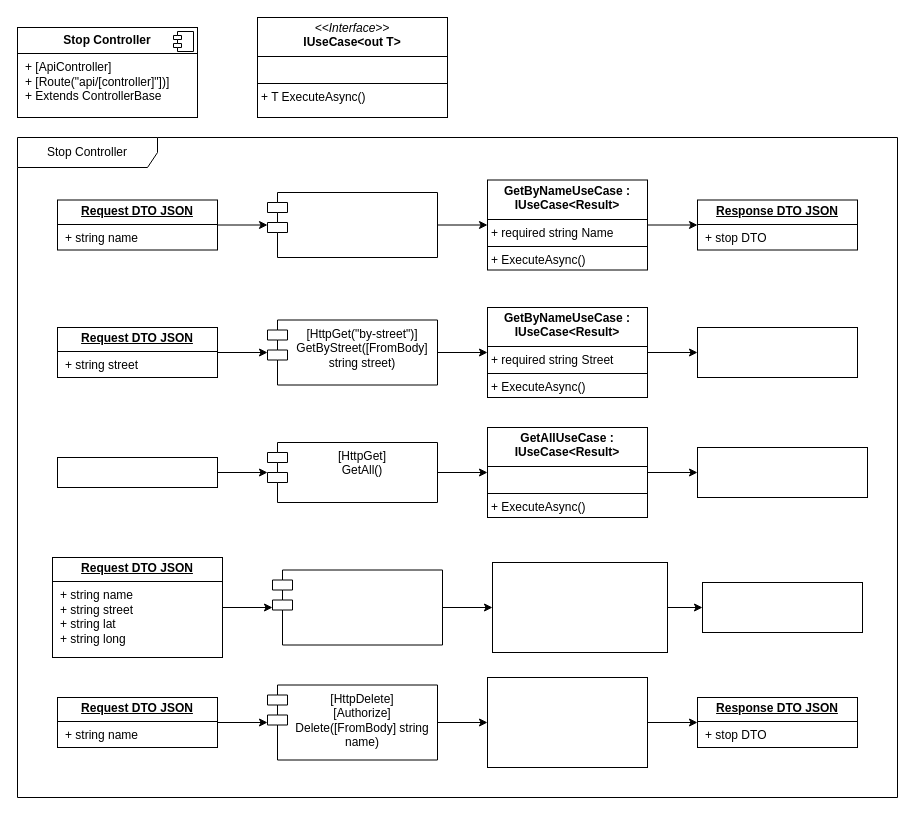
Some shapes in this 915 by 815 pixel diagram are drawn without their labels. The shapes that lost their labels are listed below. From the top down, each one's centre as x and y in pixels, then its label:
(352,225): [HttpGet("by-name")] GetByName([FromBody] string name)
(777,352): Response DTO JSON + Collection of stop DTO
(137,472): Request
(782,472): Response DTO JSON + Collection of stop DTOs
(357,607): [HttpPost] [Authorize] Create([FromBody] CreateStopRequest)
(580,607): CreateUseCase : IUseCase<Result> + required CreateStopRequest + ExecuteAsync()
(782,607): Response DTO JSON + create DTO
(567,722): DeleteUseCase : IUseCase<Result> + required string Name + ExecuteAsync()
